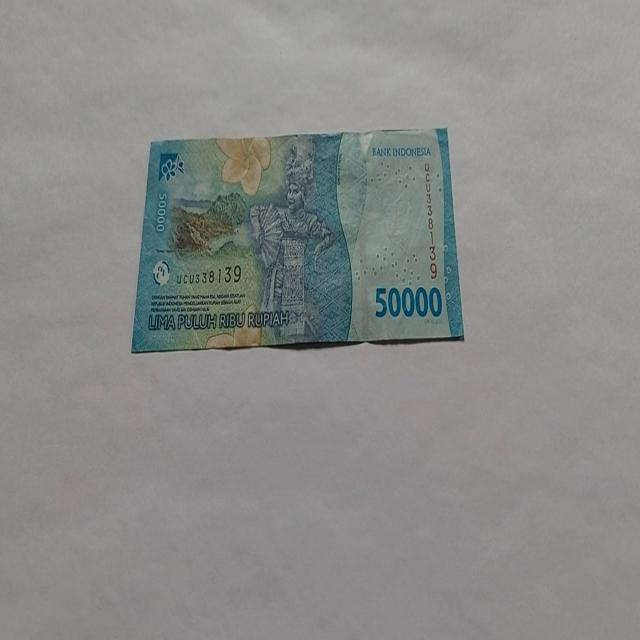lima puluh ribu rupiah: (130, 126, 464, 354)
